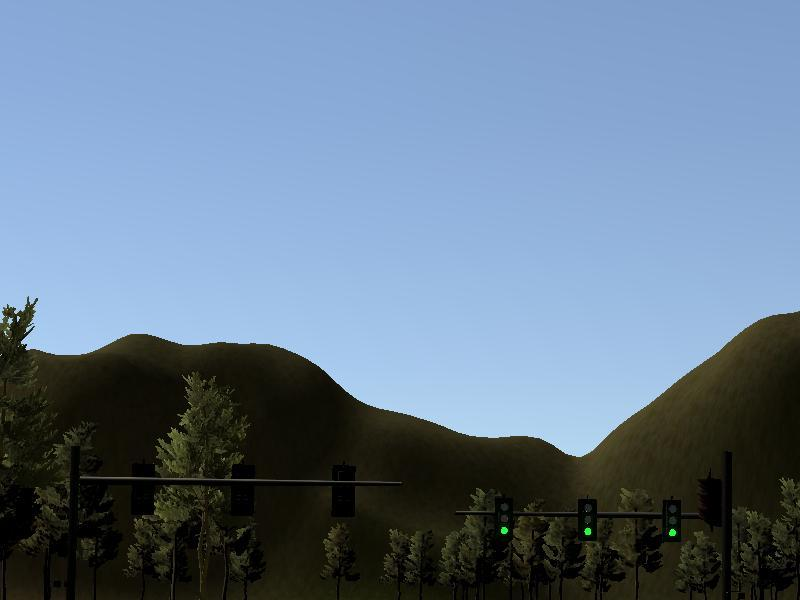Green: (663, 498, 682, 541), (578, 497, 597, 540), (494, 496, 513, 539)
